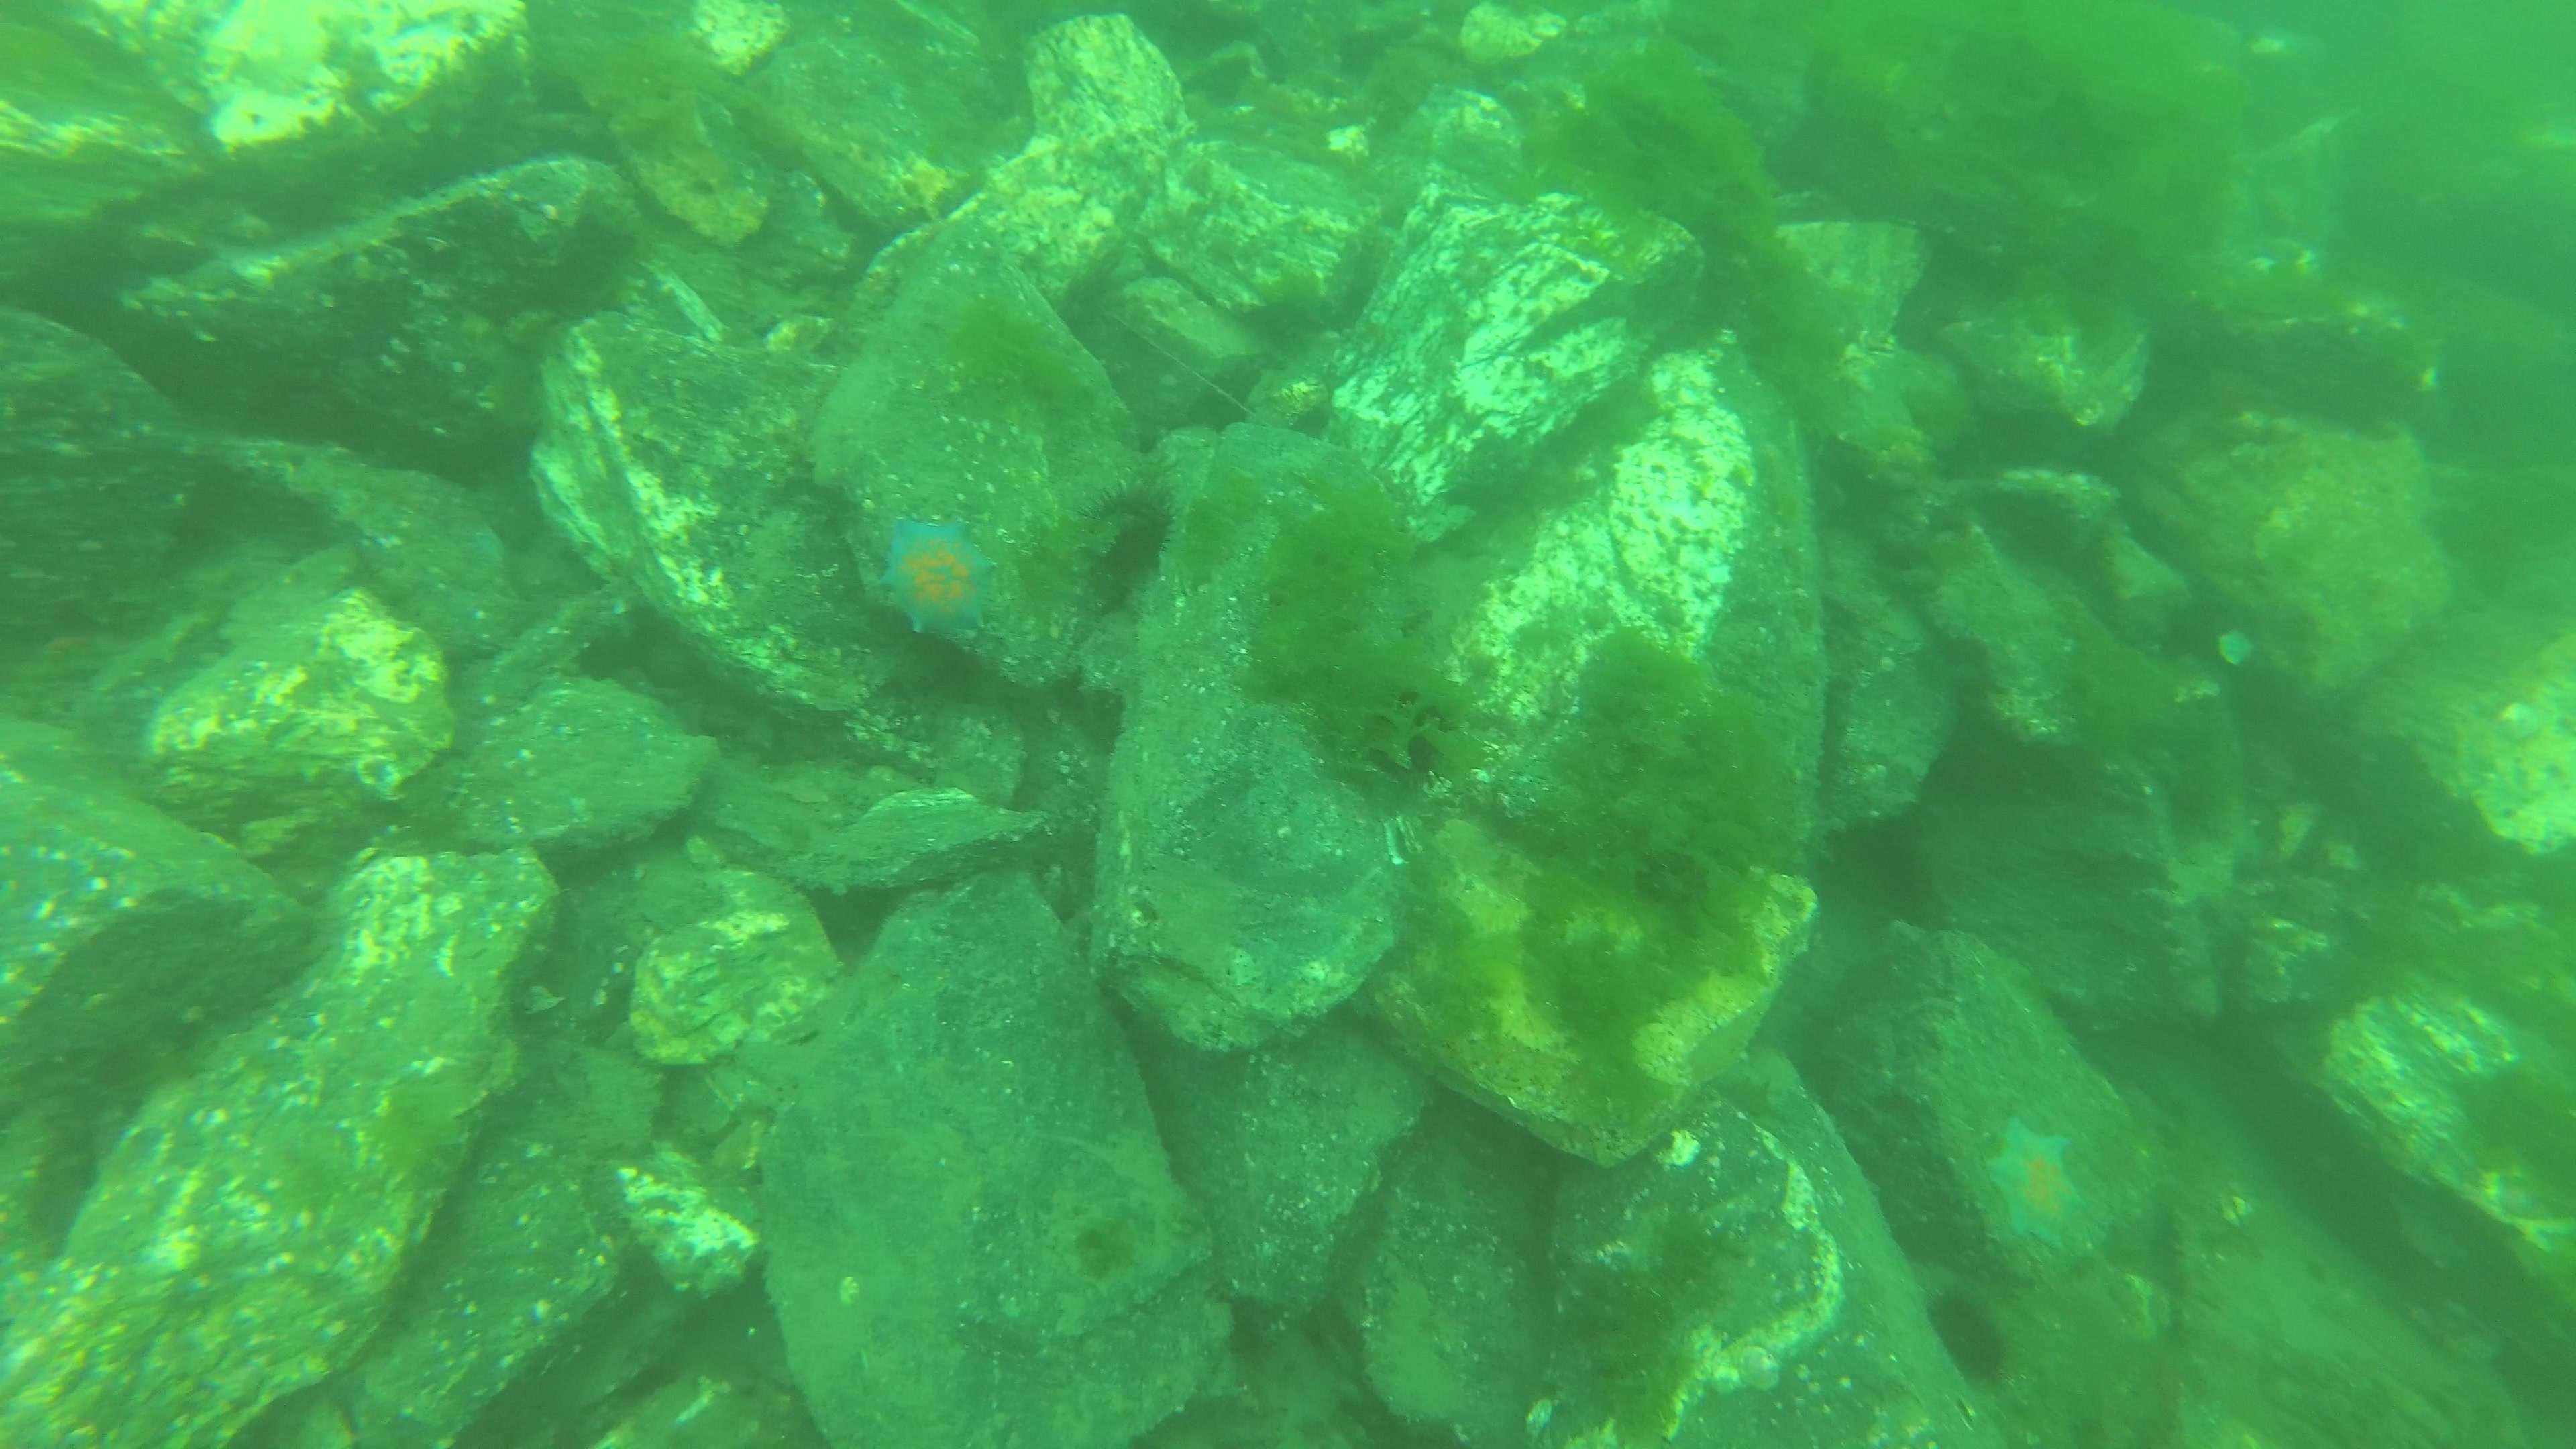echinus: (1072, 478, 1177, 589), (1920, 1283, 2015, 1391)
starfish: (872, 511, 1001, 649), (1982, 1113, 2088, 1254)
